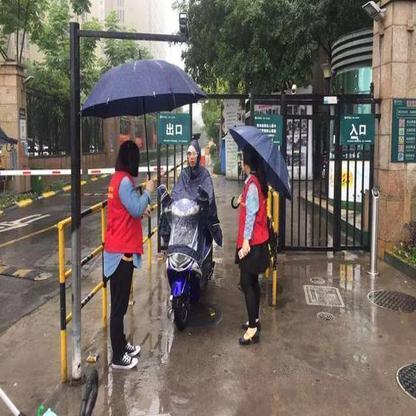target: (157, 140, 224, 330)
